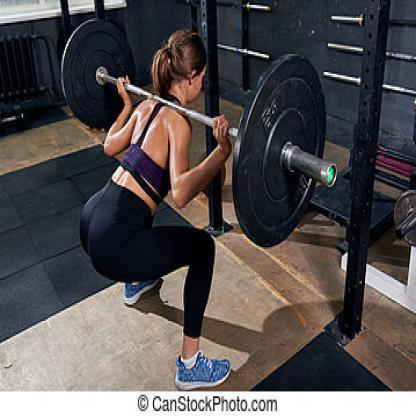barbell: (58, 16, 338, 251)
